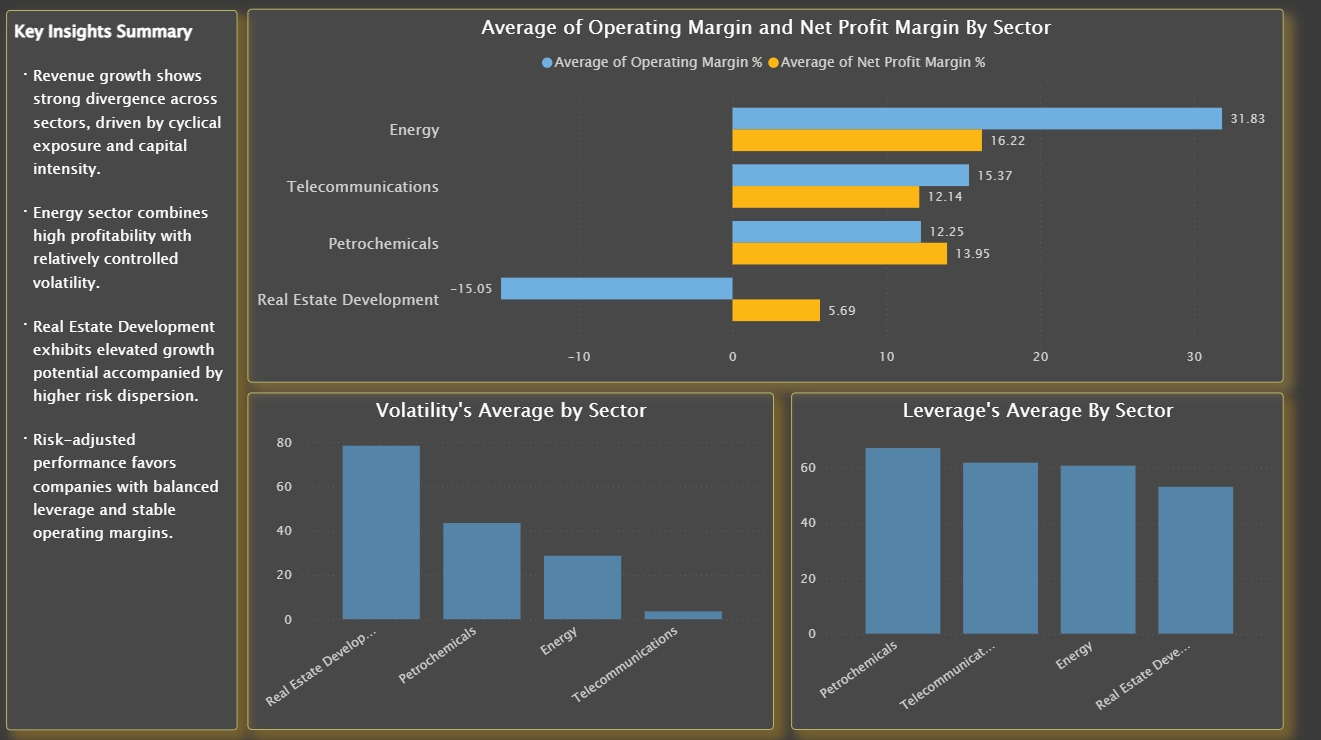

The dashboard page shown, as its layout file describes it:
{"tool":"powerbi","page":{"name":"Sector Comparison","canvas":[1280,720],"ordinal":2},"visuals":[{"type":"clusteredBarChart","title":"Average of Operating Margin and Net Profit Margin By Sector","fields":{"Y":["Avg(Sheet1 (2).Operating_Margin_%)","Avg(Sheet1 (2).Net_Profit_Margin_%)"],"Category":["Sheet1 (2).Sector"]},"box":[243.7,13.3,1000.1,360.7],"z":0},{"type":"clusteredColumnChart","title":" Volatility''s Average by Sector","fields":{"Y":["Avg(Sheet1 (3).Volatility_Avg)"],"Category":["Sheet1 (3).Sector"]},"box":[243.7,383.6,507.9,325.7],"z":1000},{"type":"clusteredColumnChart","title":"Leverage''s Average By Sector","fields":{"Category":["Sheet1 (3).Sector"],"Y":["Sum(Sheet1 (3).Leverage_Avg)"]},"box":[768.5,383.6,475.3,325.7],"z":2000},{"type":"textbox","box":[10.9,14.5,223.2,694.9],"z":3000}]}

Visuals, with their boxes in screenshot pixels (x1, y1, x2, y2), scaled from the page's 1280x720 canvas onto the 1321x740 screenshot:
"Average of Operating Margin and Net Profit Margin By Sector" clusteredBarChart: 252/14/1284/384
" Volatility''s Average by Sector" clusteredColumnChart: 252/394/776/729
"Leverage''s Average By Sector" clusteredColumnChart: 793/394/1284/729
textbox: 11/15/242/729
